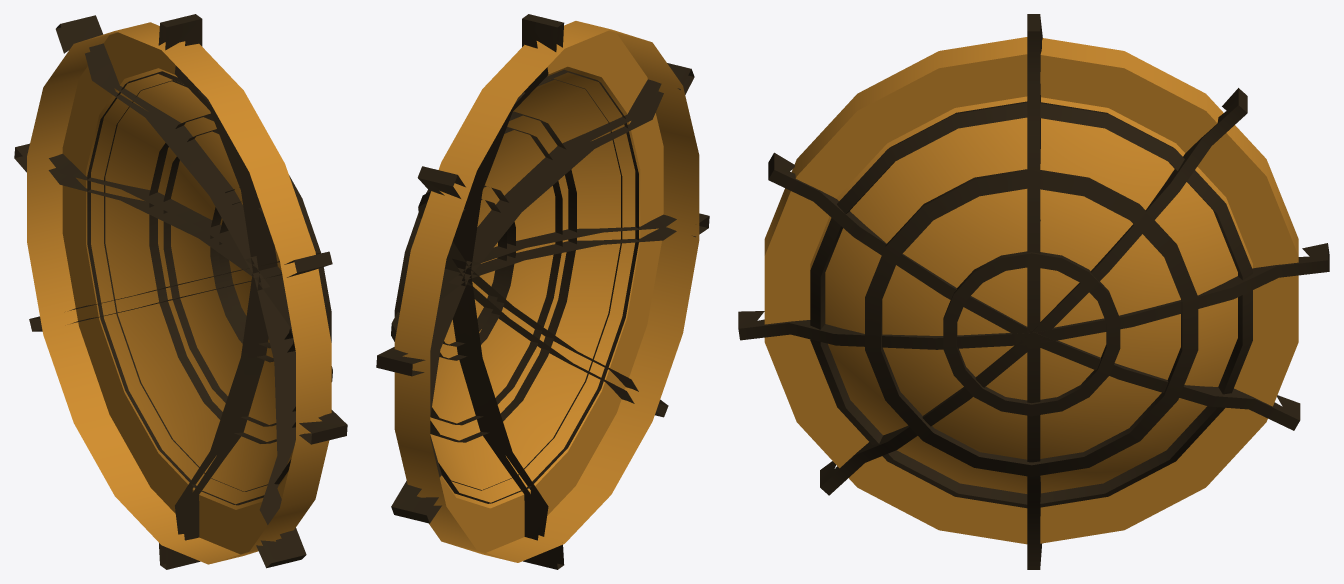
The model's file is door 1.FBX.
3 views of the same model, side by side, from view 1: azimuth 30°, elevation 25°; view 2: azimuth 150°, elevation 25°; view 3: azimuth 270°, elevation 25° (orthographic).
Parts seen in each view (by area): view 1: door; view 2: door; view 3: door.
Boxes of the visible parts, box(x1,y1,x2,y2) form: door: box(14, 14, 347, 569); door: box(376, 14, 709, 569); door: box(738, 14, 1329, 569).
Bounding box in the file's own units: 15.37 × 67.62 × 67.26.
